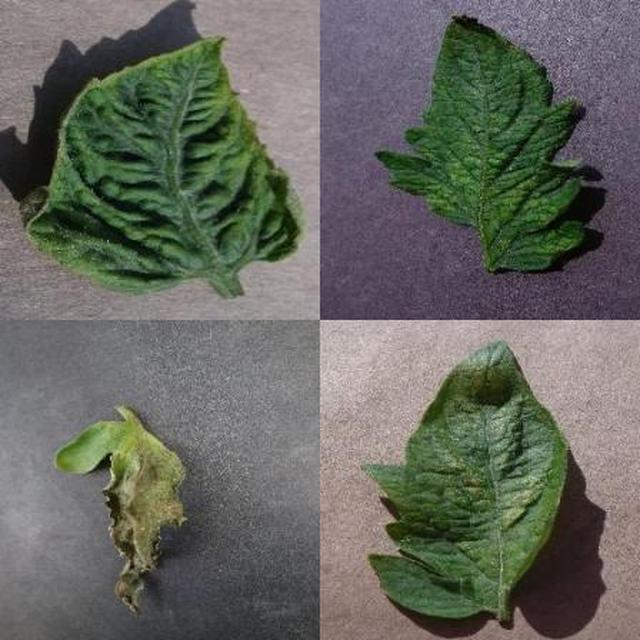Yellow Leaf Curl Virus: (176, 203, 640, 640)
